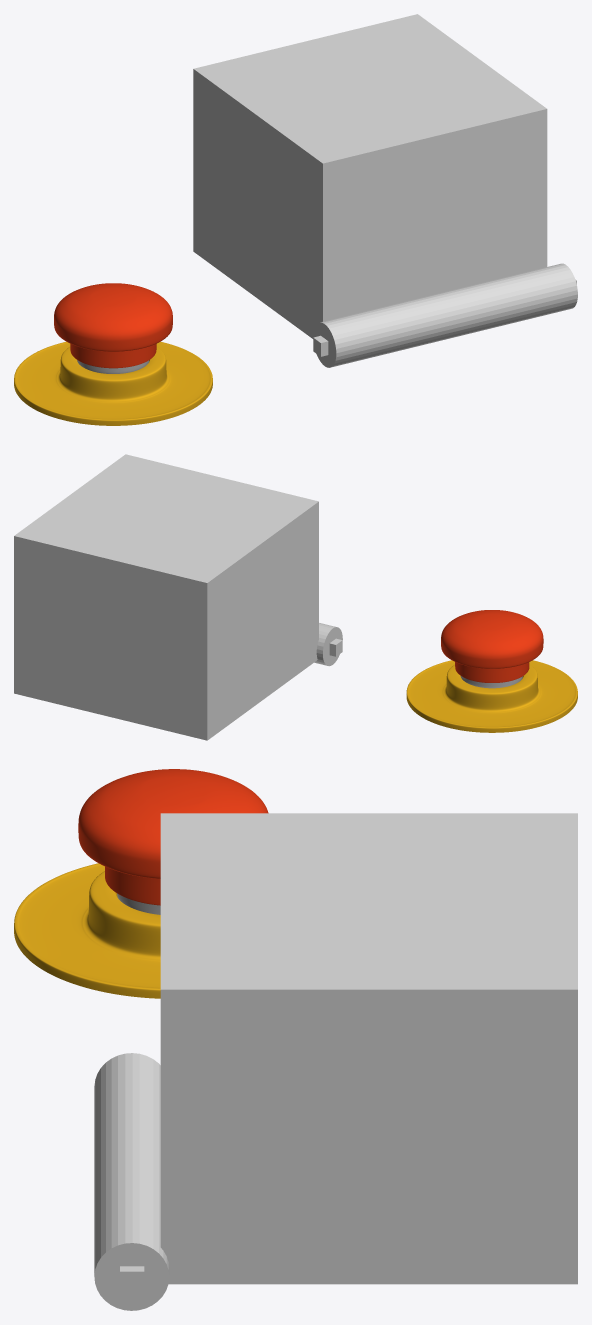
The model's file is LastButton.fbx.
3 renders of one model, top to bottom at view 1: azimuth 30°, elevation 25°; view 2: azimuth 150°, elevation 25°; view 3: azimuth 270°, elevation 25°, orthographic. The views are drawn at different scales.
Parts seen in each view (by area): view 1: 큐브, Red pannic button; view 2: 큐브, Red pannic button; view 3: 큐브, Red pannic button, 큐브.001.
Boxes of the visible parts, x1,y1,x2,y2 form: 큐브: [193, 14, 577, 367]; Red pannic button: [14, 283, 212, 425]; 큐브: [14, 454, 342, 740]; Red pannic button: [406, 610, 577, 732]; 큐브: [94, 813, 577, 1310]; Red pannic button: [14, 769, 268, 998]; 큐브.001: [120, 1266, 144, 1293].
Bounding box in the file's own units: 70.12 × 24.44 × 39.9.
